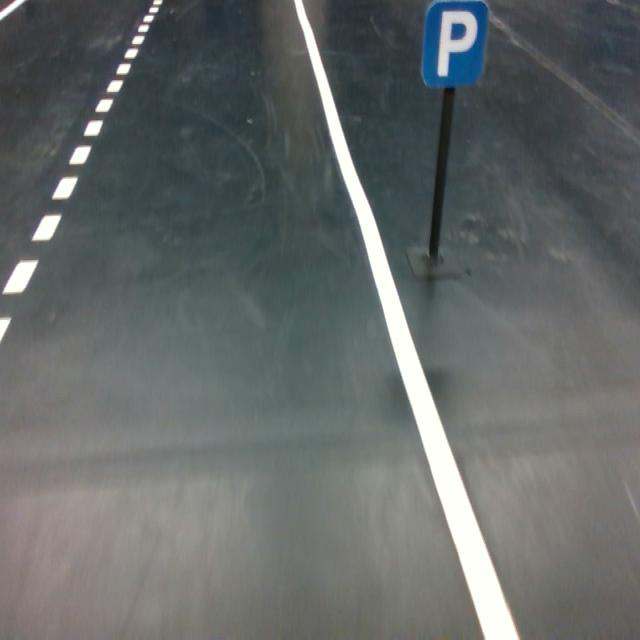parking-sign: (420, 0, 489, 88)
